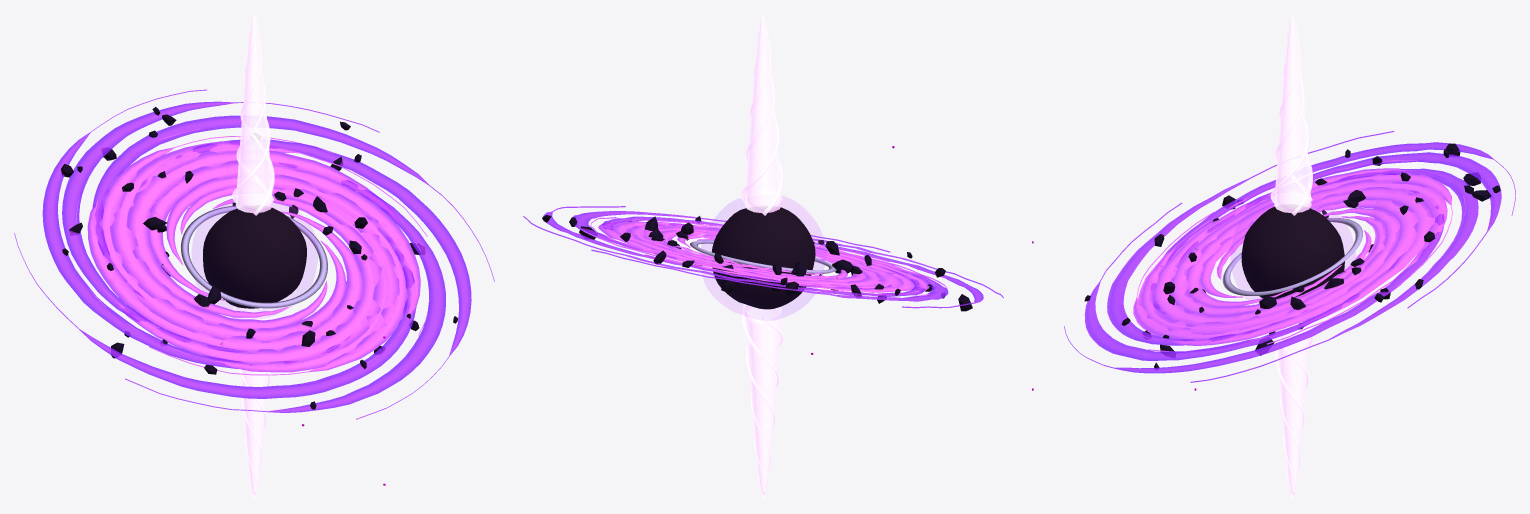
The model's file is VoidUltimate.fbx.
The picture shows the model from 3 angles, left to right: view 1: azimuth 30°, elevation 25°; view 2: azimuth 150°, elevation 25°; view 3: azimuth 270°, elevation 25°; orthographic projection.
Parts seen in each view (by area): view 1: Disk, DiskOuter, Core.002, Jets, Debris, Horizon, Ring; view 2: Jets, Disk, DiskOuter, Core.002, Debris, Horizon, Ring; view 3: Disk, DiskOuter, Jets, Core.002, Debris, Horizon, Ring.
Part boxes in pixels (x1,y1,x2,y2): Disk: [76, 128, 430, 385]; DiskOuter: [14, 89, 494, 419]; Core.002: [203, 207, 306, 308]; Jets: [232, 14, 274, 499]; Debris: [61, 107, 457, 409]; Horizon: [192, 196, 317, 318]; Ring: [180, 205, 327, 308]; Jets: [741, 14, 783, 499]; Disk: [580, 217, 947, 296]; DiskOuter: [523, 206, 1003, 308]; Core.002: [711, 207, 815, 309]; Debris: [542, 215, 972, 311]; Horizon: [701, 196, 826, 319]; Ring: [690, 240, 836, 273]; Disk: [1121, 160, 1465, 352]; DiskOuter: [1064, 131, 1515, 382]; Jets: [1270, 14, 1312, 499]; Core.002: [1241, 207, 1344, 299]; Debris: [1084, 143, 1500, 369]; Horizon: [1231, 197, 1355, 304]; Ring: [1222, 218, 1362, 295].
Bounding box in the file's own units: 28.65 × 33 × 29.77.
